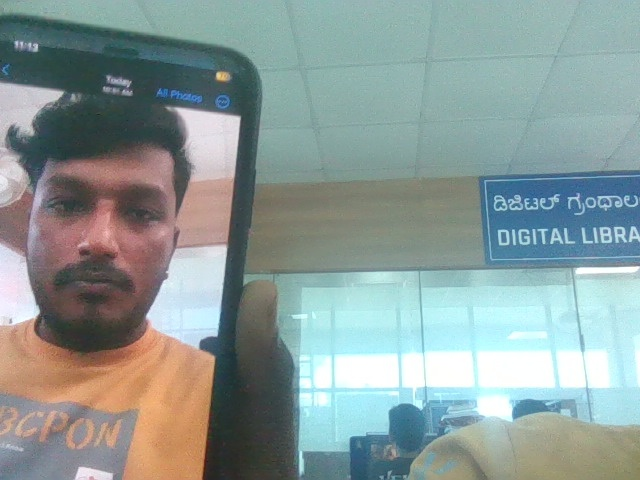fake: (0, 59, 213, 361)
